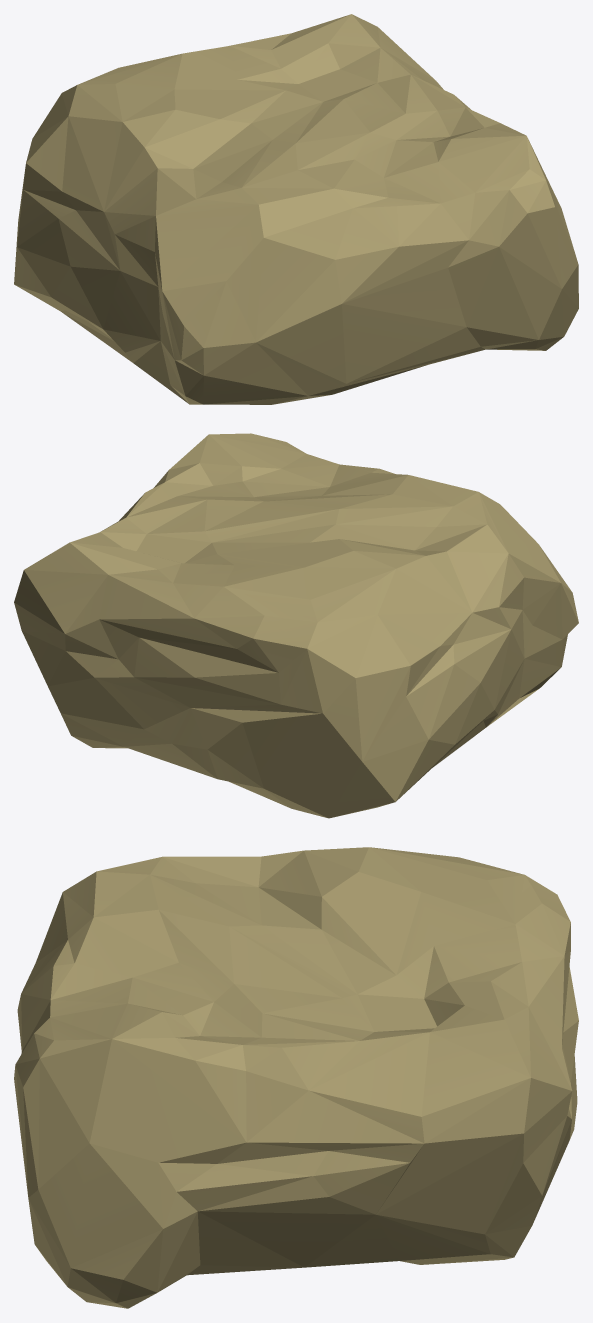
File: SM_rock_56.fbx
3 views of the same model, one above another, from view 1: azimuth 30°, elevation 25°; view 2: azimuth 150°, elevation 25°; view 3: azimuth 270°, elevation 25° (orthographic). The views are drawn at different scales.
Parts seen in each view (by area): view 1: rock_56; view 2: rock_56; view 3: rock_56.
Part boxes in pixels (x1=…): rock_56: x1=14, y1=14, x2=578, y2=404; rock_56: x1=14, y1=433, x2=578, y2=818; rock_56: x1=14, y1=847, x2=578, y2=1308.
Size of the model in its own units: 246 by 126 by 235.
